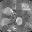people: (1, 17, 13, 27), (2, 8, 14, 16), (15, 16, 23, 25)
